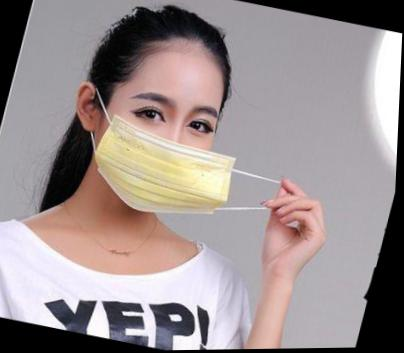WRONG: (81, 74, 230, 227)
